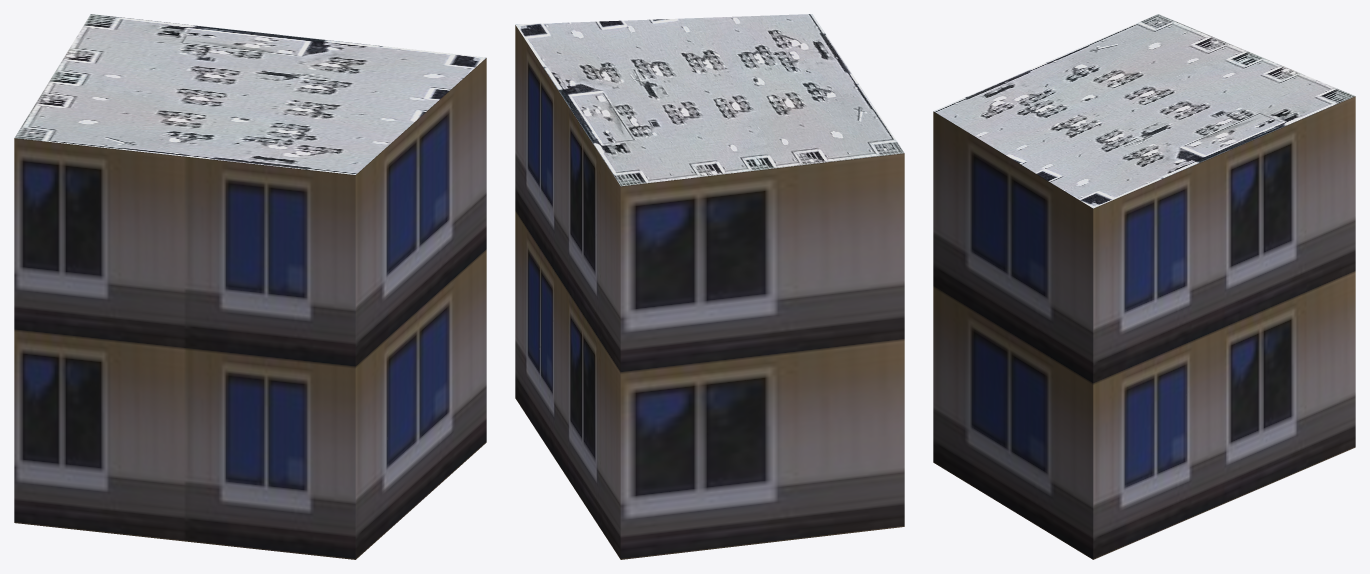
The model's file is ResTex__1783.fbx.
The picture shows the model from 3 angles, left to right: view 1: azimuth 30°, elevation 25°; view 2: azimuth 150°, elevation 25°; view 3: azimuth 270°, elevation 25°; orthographic projection. The views are drawn at different scales.
Visible parts, largest first — view 1: CityEngineMaterial_5_m, CityEngineMaterial_4_m; view 2: CityEngineMaterial_5_m, CityEngineMaterial_4_m; view 3: CityEngineMaterial_5_m, CityEngineMaterial_4_m.
Part boxes in pixels (<box>): CityEngineMaterial_5_m: <box>14,58,486,559</box>; CityEngineMaterial_4_m: <box>14,14,485,174</box>; CityEngineMaterial_5_m: <box>515,25,904,559</box>; CityEngineMaterial_4_m: <box>515,14,904,186</box>; CityEngineMaterial_5_m: <box>933,96,1355,559</box>; CityEngineMaterial_4_m: <box>933,14,1355,208</box>.
Bounding box in the file's own units: 7.13 × 6 × 6.54.
2 materials, 2 textured.
